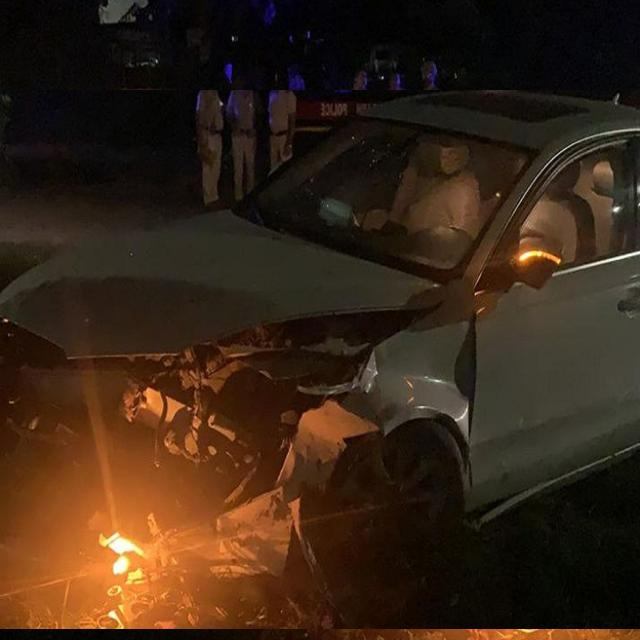accident: (0, 90, 640, 629)
